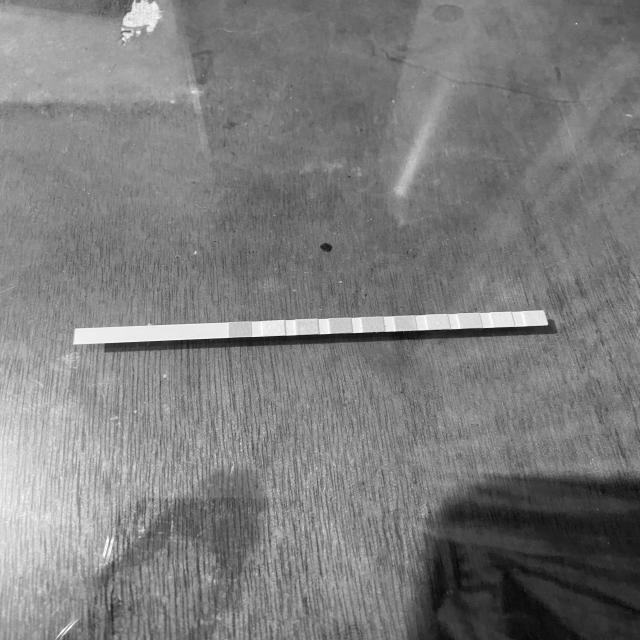Bilirubin: (262, 321, 285, 335)
Blood: (362, 317, 383, 332)
Glucose: (229, 322, 251, 337)
Ketone: (295, 320, 318, 334)
Leukocytes: (525, 312, 544, 326)
Nitrite: (492, 313, 512, 327)
Protein: (427, 315, 447, 329)
SpGravity: (329, 318, 352, 333)
Urobilinogen: (460, 314, 480, 328)
background: (0, 0, 640, 640)
pH: (395, 317, 416, 330)
strip: (73, 310, 549, 345)
